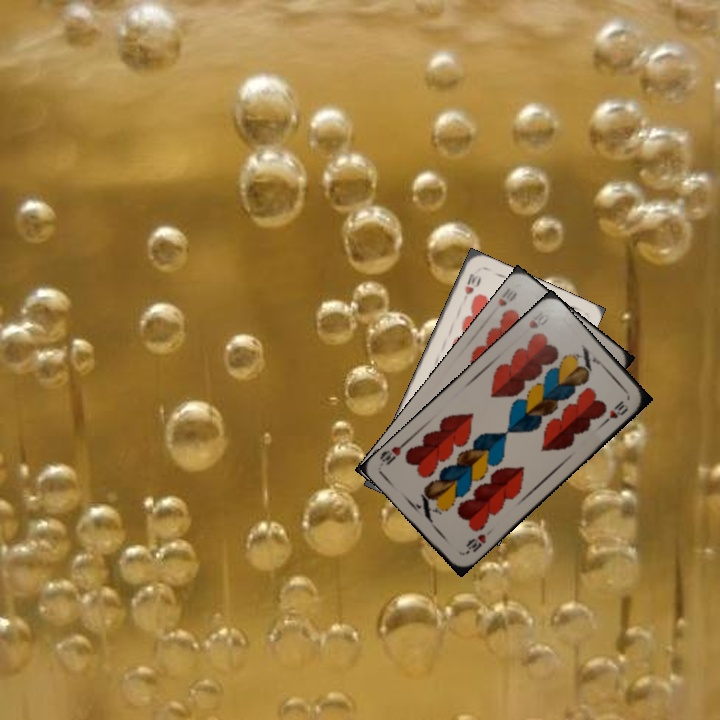H10: (461, 530, 489, 557), (525, 308, 552, 331), (461, 269, 482, 297), (494, 288, 520, 309)
